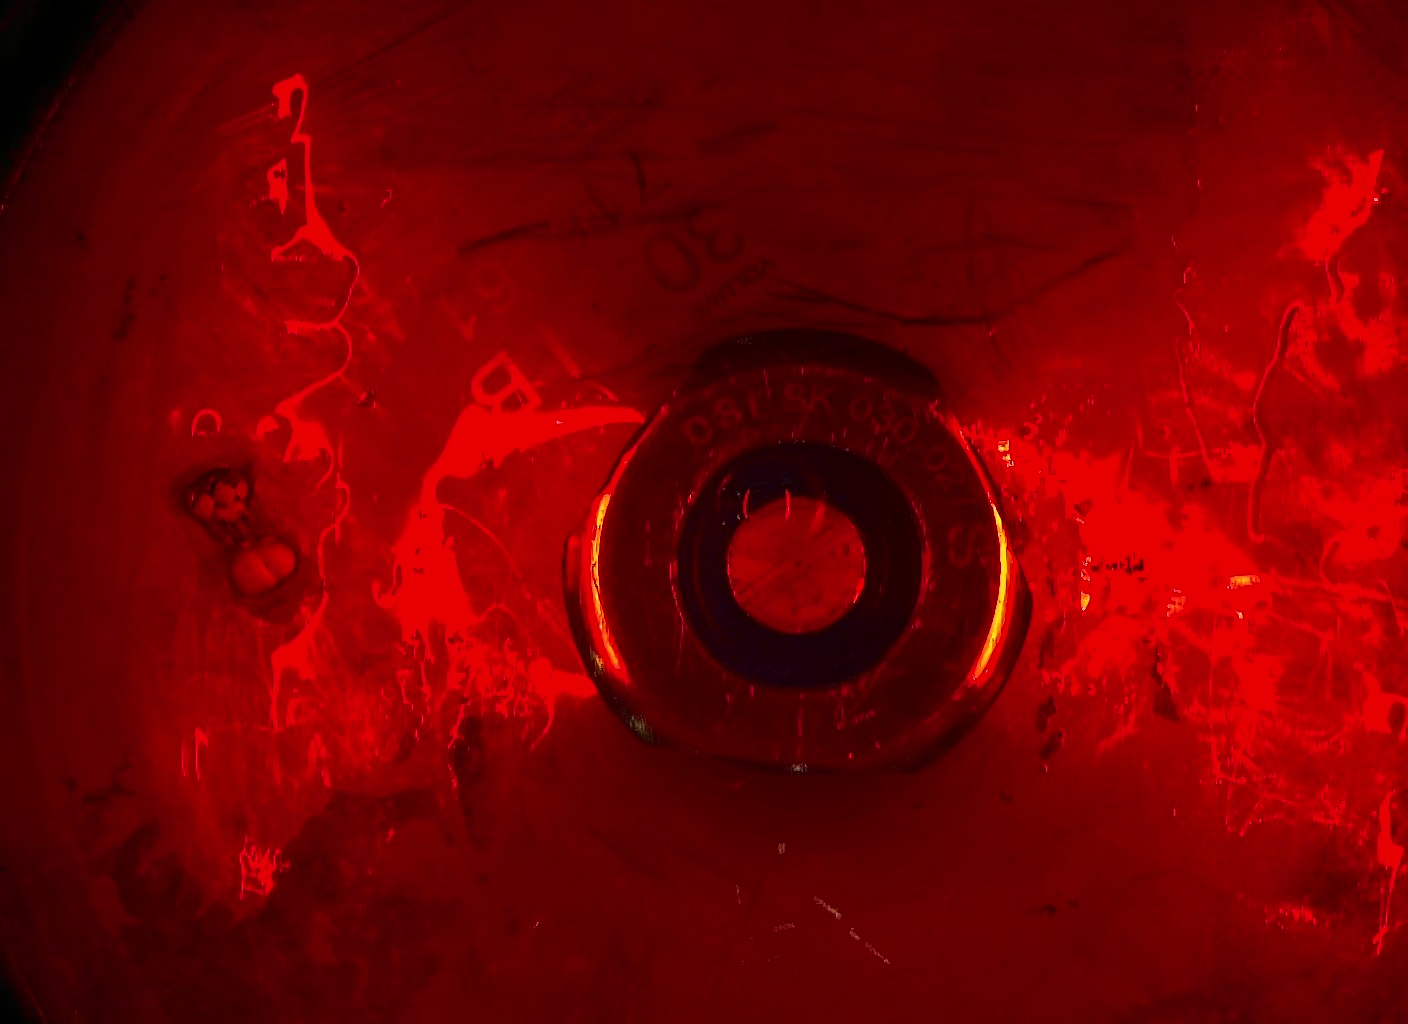pena: (712, 442, 835, 576)
